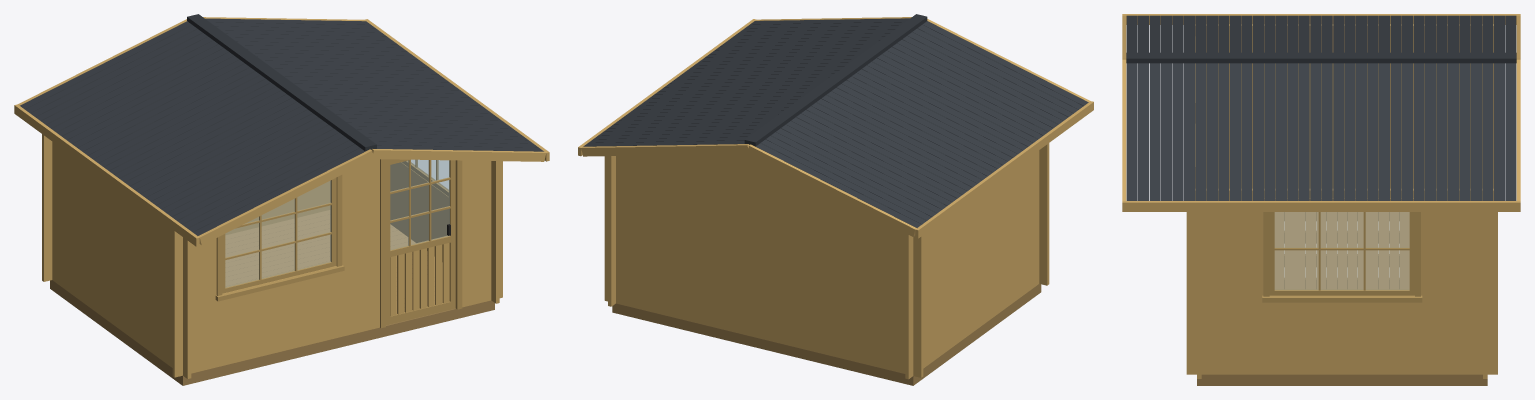
Rendered from диогу_4_3_44_мм.glb.
The picture shows the model from 3 angles, left to right: view 1: azimuth 30°, elevation 25°; view 2: azimuth 150°, elevation 25°; view 3: azimuth 270°, elevation 25°; orthographic projection. The views are drawn at different scales.
Visible parts, largest first — view 1: roof, walls, object 6, floor, house, object 28, object 35, object 34, object 16, object 14, object 15, object 5 (+12 smaller); view 2: walls, roof, house; view 3: roof, walls, floor, object 41, house, object 48, object 40, object 45, object 44, object 46, object 38, object 37.
Part boxes in pixels (x1,y1,x2,y2): roof: (14, 14, 549, 246); walls: (42, 134, 502, 378); object 6: (225, 180, 330, 287); floor: (225, 210, 442, 313); house: (50, 280, 494, 385); object 28: (390, 160, 449, 249); object 35: (456, 160, 462, 309); object 34: (380, 159, 385, 328); object 16: (449, 160, 455, 309); object 14: (215, 265, 344, 301); object 15: (386, 159, 390, 325); object 5: (222, 261, 336, 293); walls: (604, 143, 1049, 379); roof: (578, 14, 1093, 238); house: (612, 284, 1041, 385); roof: (1122, 14, 1520, 211); walls: (1186, 24, 1497, 378); floor: (1274, 212, 1409, 289); object 41: (1275, 212, 1409, 289); house: (1197, 212, 1487, 385); object 48: (1262, 295, 1422, 302); object 40: (1270, 289, 1414, 295); object 45: (1263, 200, 1269, 296); object 44: (1274, 247, 1409, 250); object 46: (1415, 212, 1420, 296); object 38: (1409, 212, 1414, 295); object 37: (1269, 212, 1274, 295).
Bounding box in the file's own units: 4.3 × 2.62 × 3.84.
